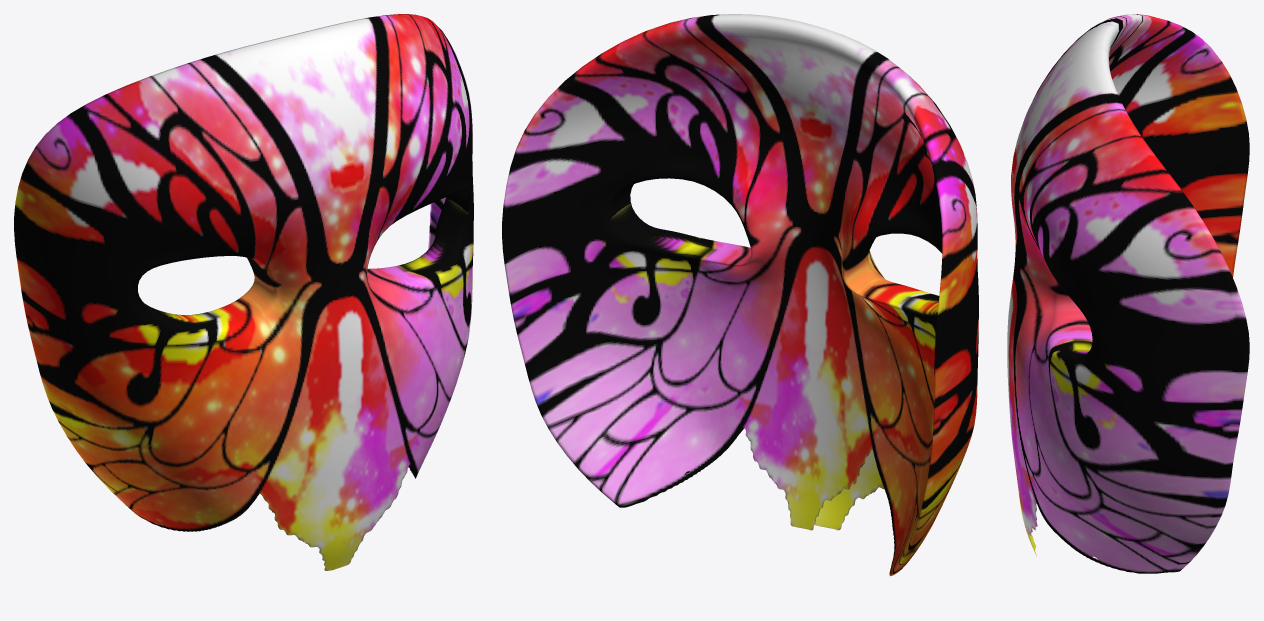
The model's file is mask02.dae.
3 views of the same model, side by side, from view 1: azimuth 30°, elevation 25°; view 2: azimuth 150°, elevation 25°; view 3: azimuth 270°, elevation 25° (orthographic). The views are drawn at different scales.
Parts seen in each view (by area): view 1: mask02_Mesh; view 2: mask02_Mesh; view 3: mask02_Mesh.
Boxes of the visible parts, left/top/right/bottom form: mask02_Mesh: left=14, top=14, right=473, bottom=570; mask02_Mesh: left=502, top=14, right=978, bottom=576; mask02_Mesh: left=1007, top=14, right=1249, bottom=573.
Bounding box in the file's own units: 1.08 × 1.38 × 0.5527.
